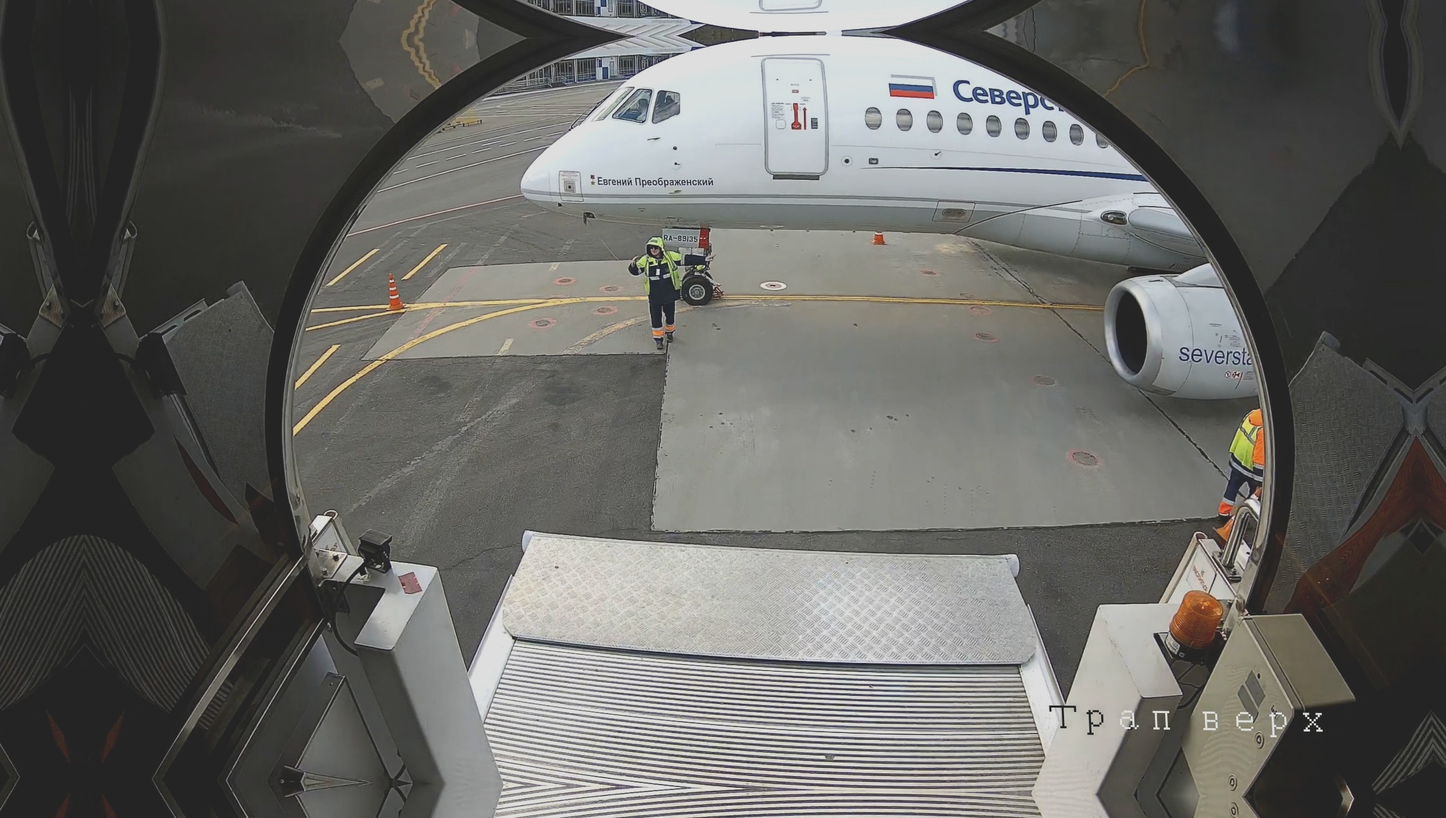boots: (708, 283, 730, 304)
wheels: (679, 273, 713, 306)
